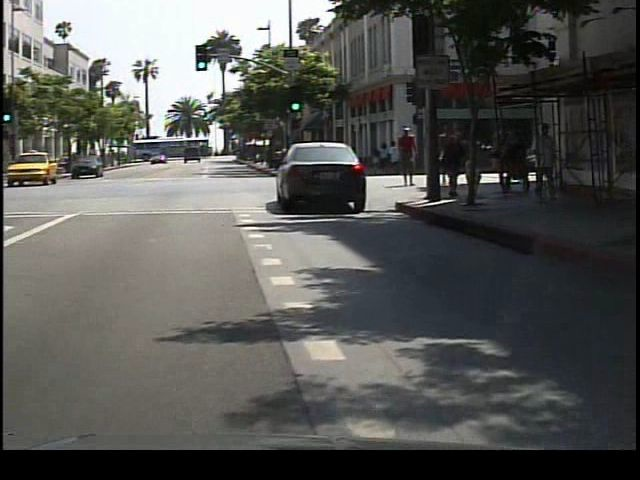person: (399, 124, 426, 190)
